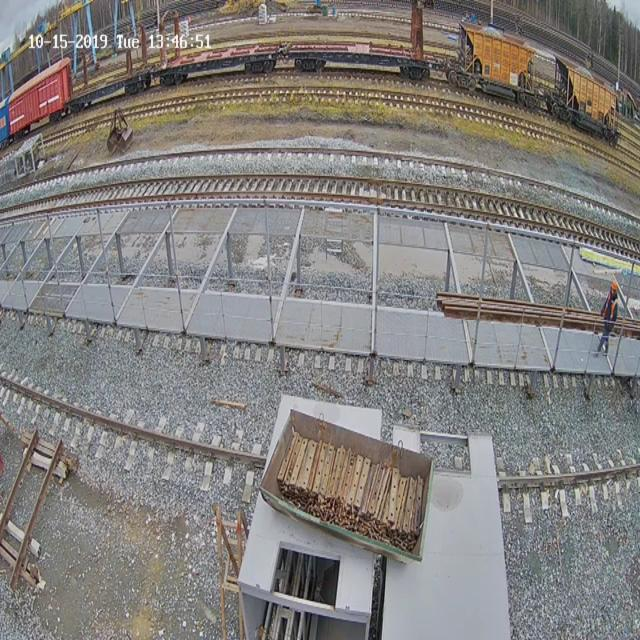Person: (599, 278, 621, 360)
